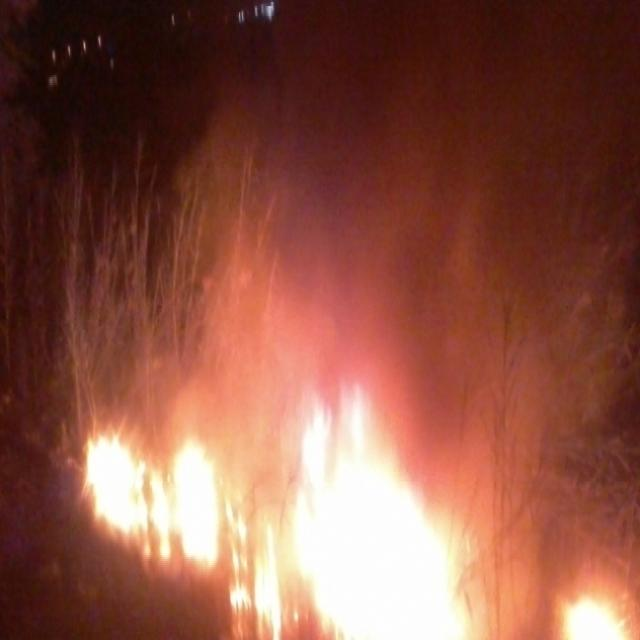Fire: (87, 395, 640, 640)
